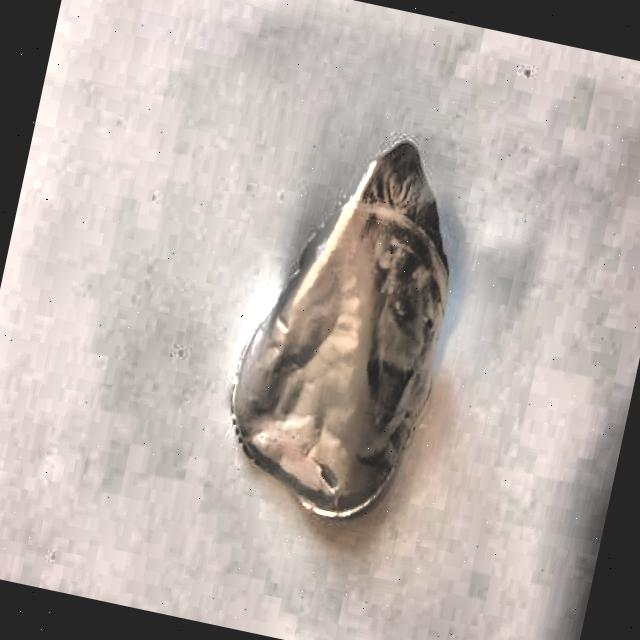trash: (204, 108, 491, 538)
